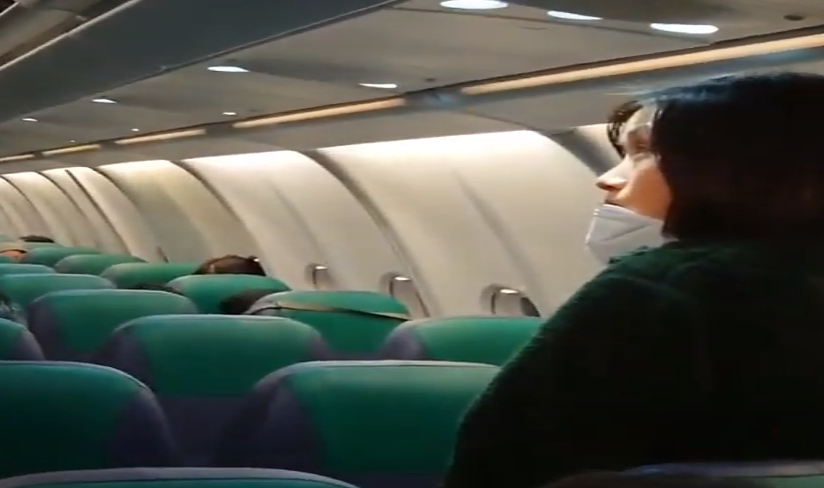mask_weared_incorrect: (579, 68, 775, 265)
